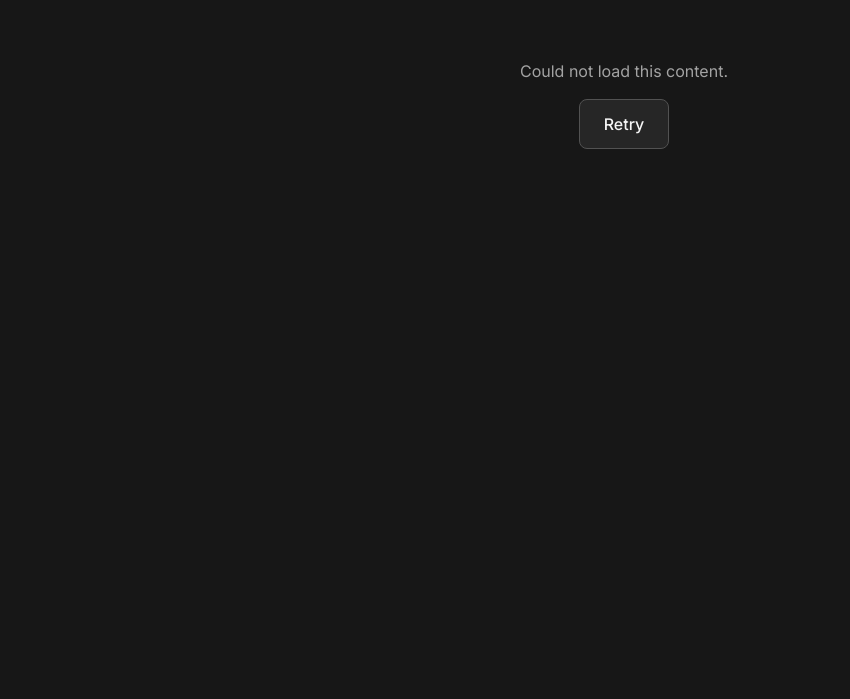
About › shows the load error with retry instead of the placeholder text when settings fail
This screenshot has width=850, height=699.
Expected: the text "Could not load this content." is shown, left=520, top=61, right=728, bottom=81
Click the button "Retry" at coordinates (624, 124), box left=579, top=99, right=669, bottom=149
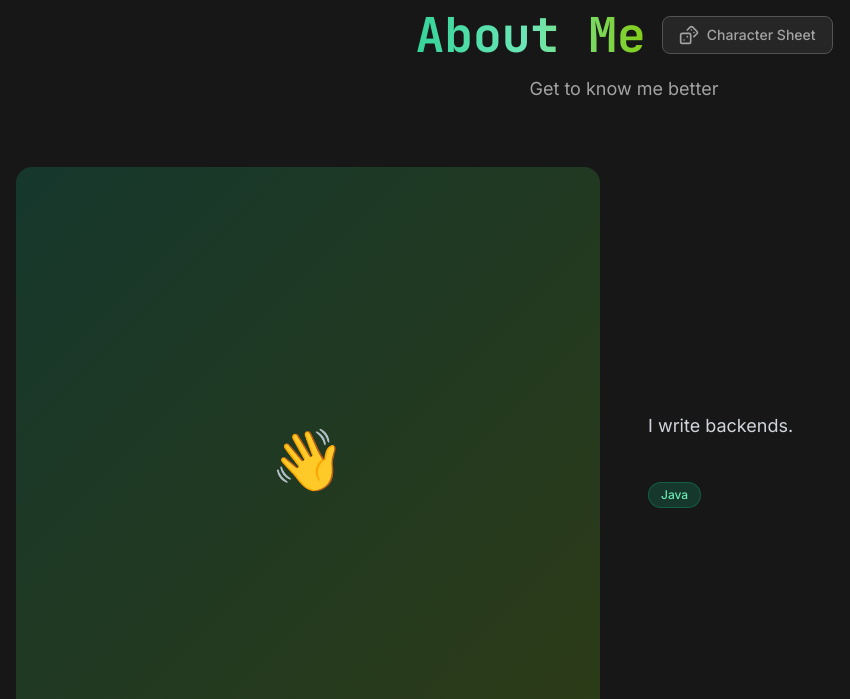
Expected: the text "I write backends." is shown, left=648, top=415, right=793, bottom=436
Expected: the text "Could not load this content." is gone
